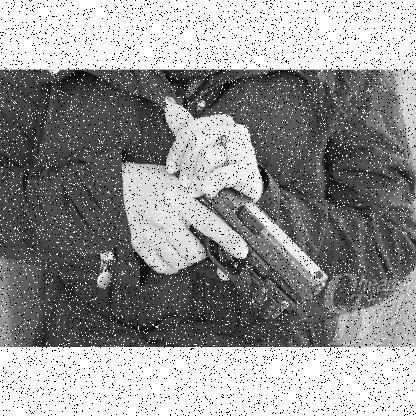gun: (176, 177, 326, 325)
